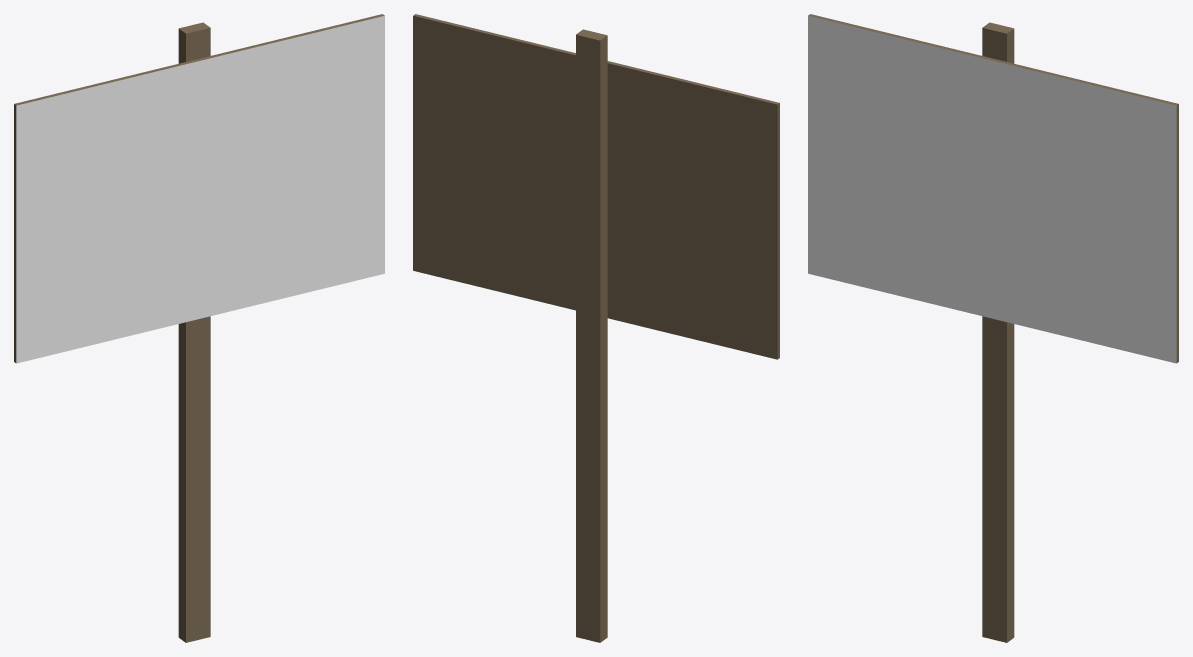
File: protest_sign_h.fbx
3 renders of one model, left to right at view 1: azimuth 30°, elevation 25°; view 2: azimuth 150°, elevation 25°; view 3: azimuth 330°, elevation 25°, orthographic.
Parts seen in each view (by area): view 1: SIGN-H; view 2: SIGN-H; view 3: SIGN-H.
Boxes of the visible parts, bbox=[...] form: SIGN-H: bbox=[14, 14, 384, 642]; SIGN-H: bbox=[413, 14, 779, 642]; SIGN-H: bbox=[808, 14, 1178, 642].
Size of the model in its own units: 59.85 by 94.53 by 2.73.
Materials: 2 (1 with a texture image).
